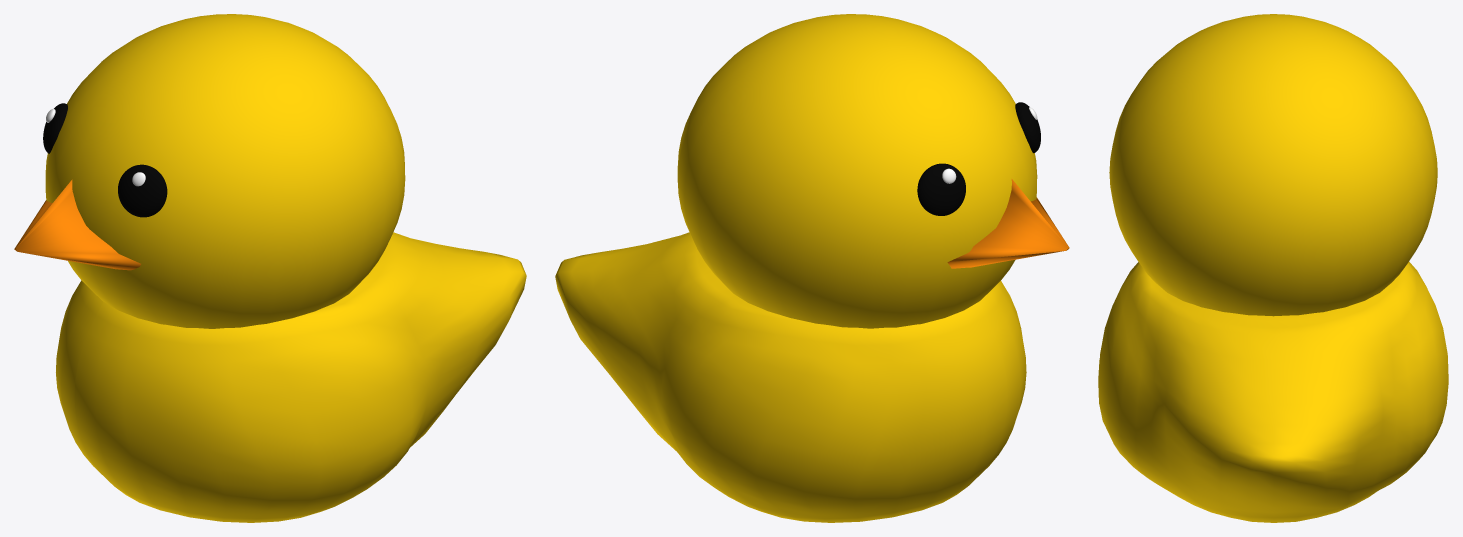
The model's file is rubberduckmodel.glb.
3 renders of one model, left to right at view 1: azimuth 30°, elevation 25°; view 2: azimuth 150°, elevation 25°; view 3: azimuth 270°, elevation 25°, orthographic. The views are drawn at different scales.
Parts seen in each view (by area): view 1: head, body, 부리리, eyeleft, eyeright; view 2: head, body, 부리리, eyeright, eyeleft; view 3: head, body.
Boxes of the visible parts, x1,y1,x2,y2 form: head: (45,14,405,328); body: (56,232,526,522); 부리리: (14,179,140,270); eyeleft: (118,164,167,217); eyeright: (43,103,67,153); head: (677,14,1037,328); body: (555,232,1026,522); 부리리: (947,179,1069,268); eyeright: (917,163,965,215); eyeleft: (1015,102,1040,153); head: (1109,14,1437,316); body: (1098,261,1448,522).
Size of the model in its own units: 1.22 by 1.03 by 0.7609.
